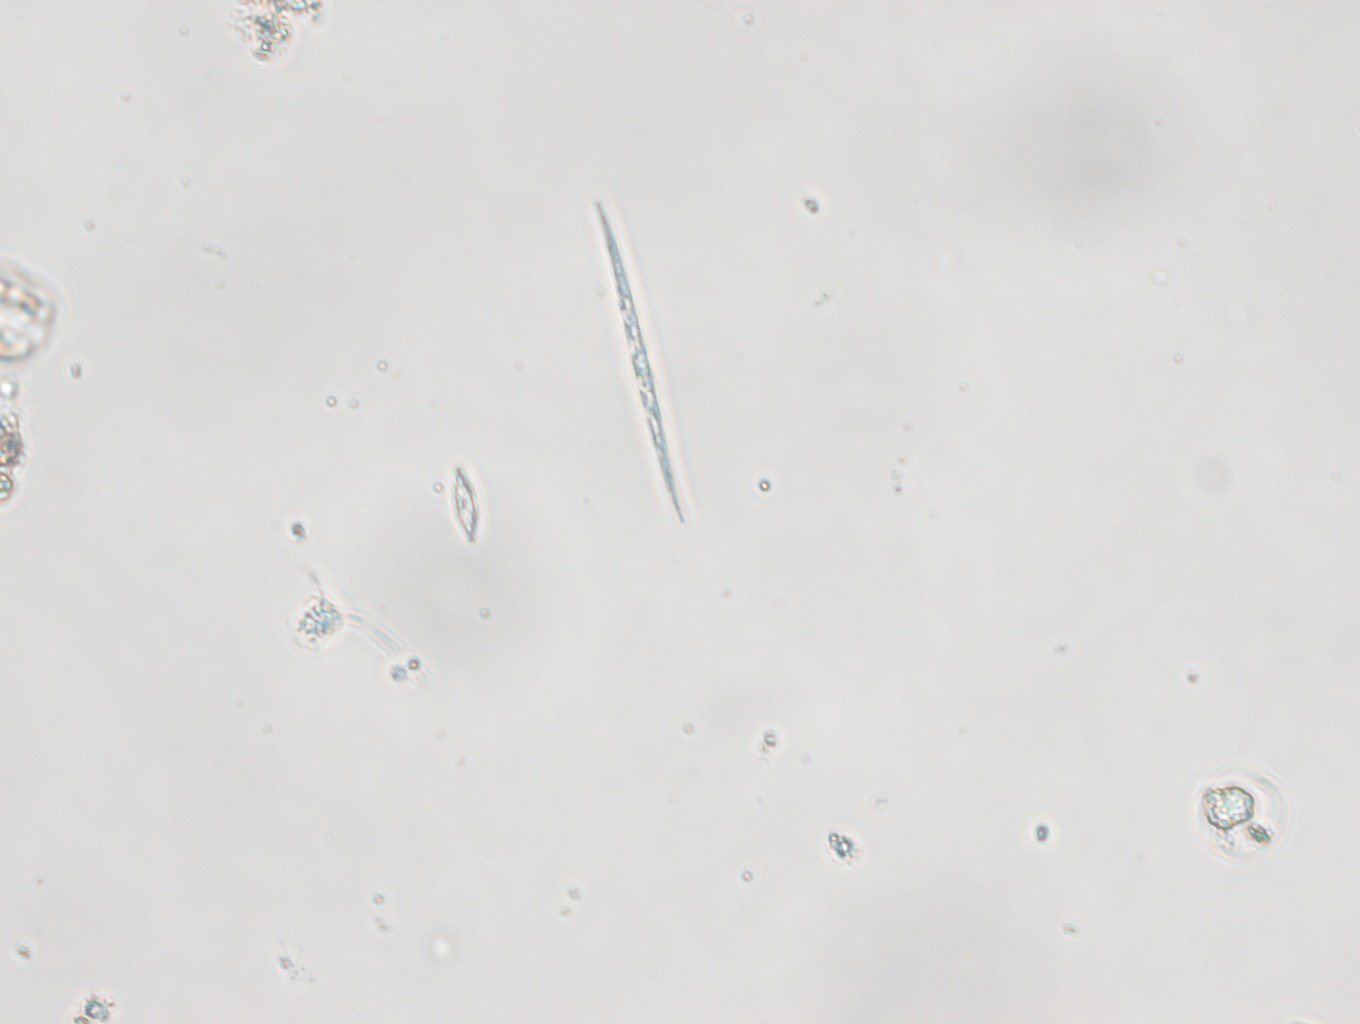navicula: (427, 461, 499, 544)
pleurosigma pelagicum: (581, 201, 718, 525)
